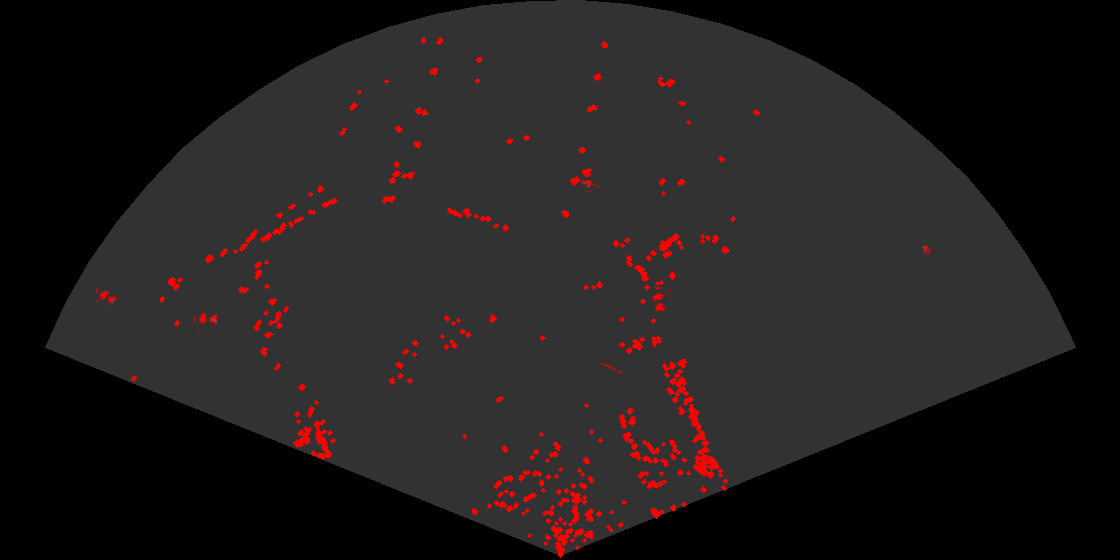ball: (922, 243, 933, 256)
cage: (96, 285, 119, 310), (649, 287, 671, 313), (194, 310, 219, 331), (578, 167, 599, 192)
chain: (599, 361, 623, 375)
